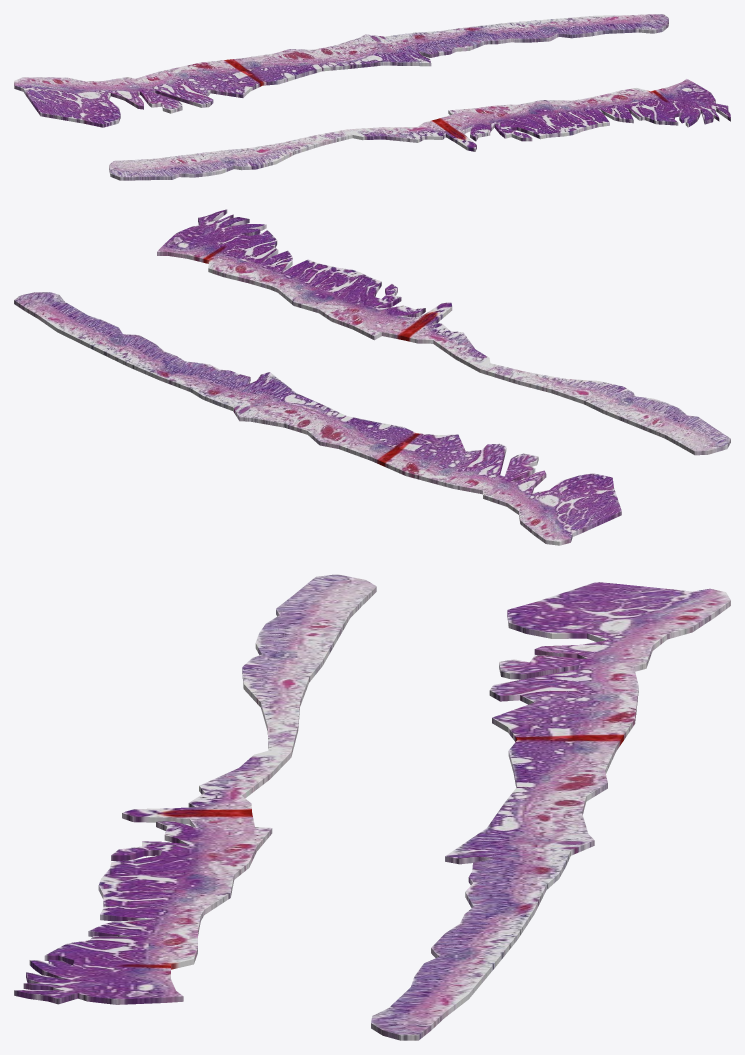
3 views of the same model, one above another, from view 1: azimuth 30°, elevation 25°; view 2: azimuth 150°, elevation 25°; view 3: azimuth 270°, elevation 25° (orthographic). The views are drawn at different scales.
Visible parts, largest first — view 1: 平面; view 2: 平面; view 3: 平面.
Boxes of the visible parts, x1,y1,x2,y2 form: 平面: (14,14,730,180); 平面: (14,209,730,545); 平面: (14,574,730,1040).
Bounding box in the file's own units: 25.49 × 0.14 × 16.75.
Materials: 1 (1 with a texture image).
